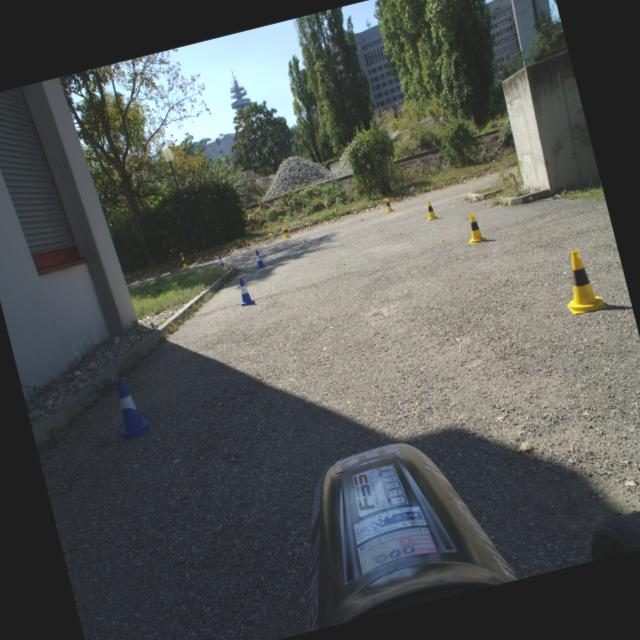blue_cone: (105, 374, 154, 441), (233, 275, 255, 307), (251, 248, 267, 269), (217, 254, 224, 268)
yellow_cone: (554, 246, 606, 316), (461, 210, 487, 245), (422, 198, 439, 221), (382, 195, 394, 212), (281, 224, 290, 238), (180, 256, 190, 268)
